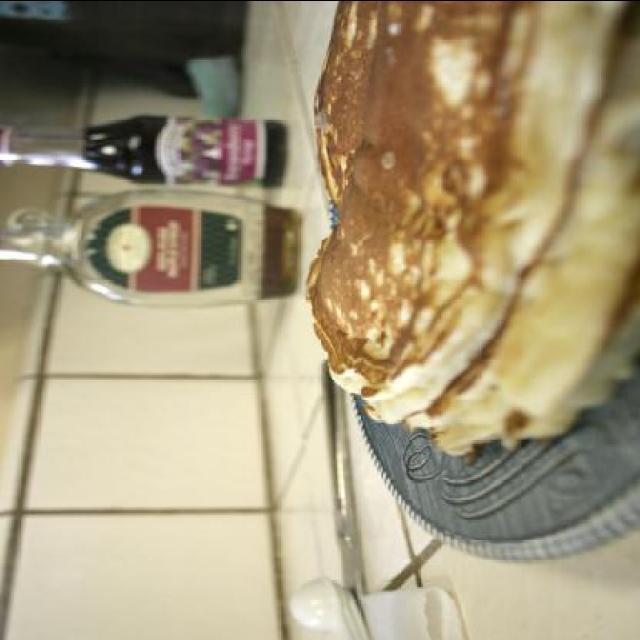Pancake: (303, 0, 632, 422)
